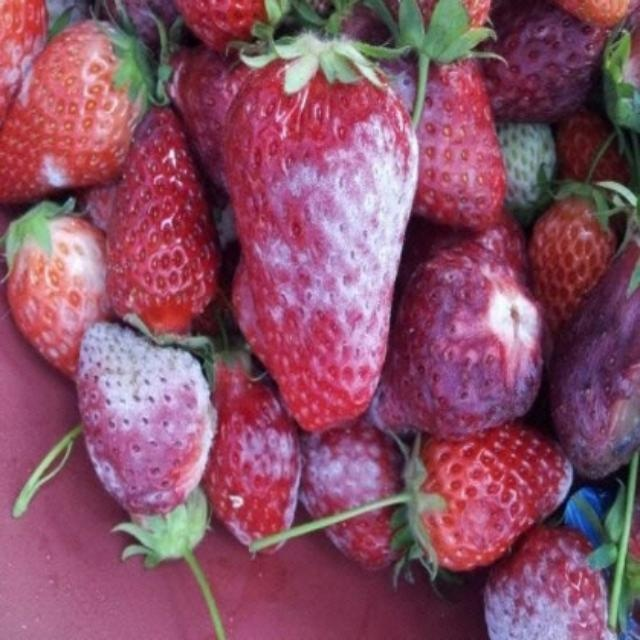Powdery Mildew Fruit: (220, 38, 421, 433), (0, 16, 155, 205), (76, 319, 218, 517), (198, 350, 301, 555), (296, 423, 416, 573), (482, 527, 612, 640), (0, 2, 48, 128), (530, 439, 575, 522)
